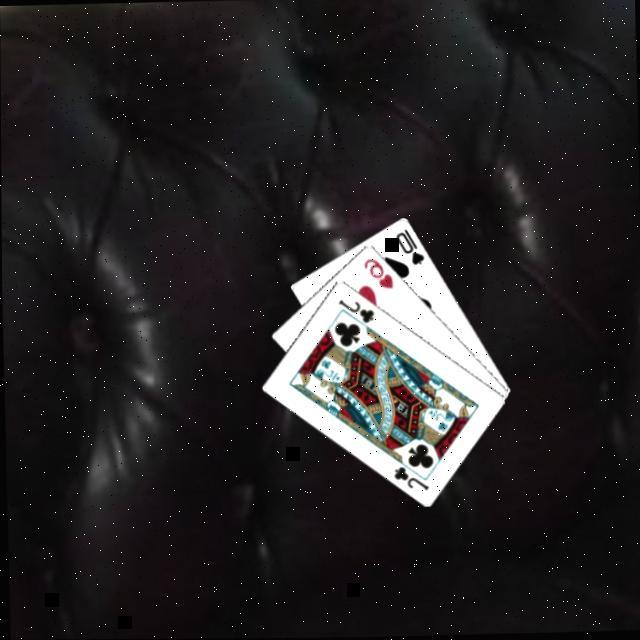10S: (394, 224, 429, 267)
6H: (362, 253, 396, 290)
JC: (392, 461, 434, 493), (336, 294, 378, 325)
